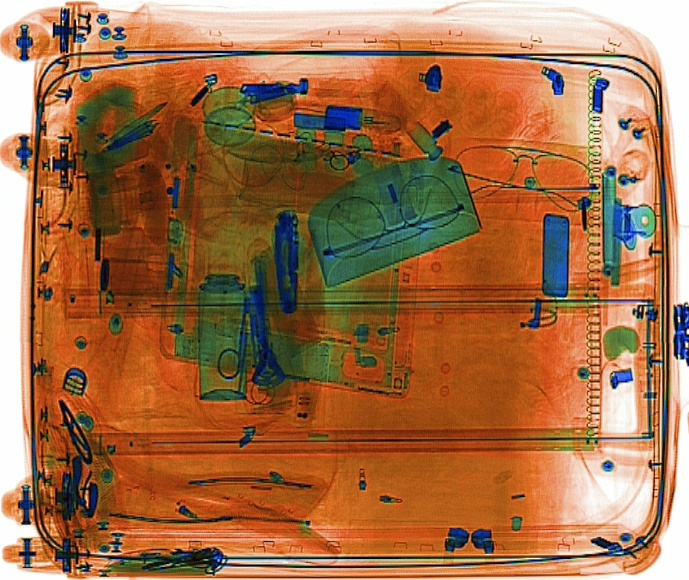knife: (266, 204, 306, 314)
pressure: (193, 238, 249, 405)
scissors: (217, 264, 280, 387)
